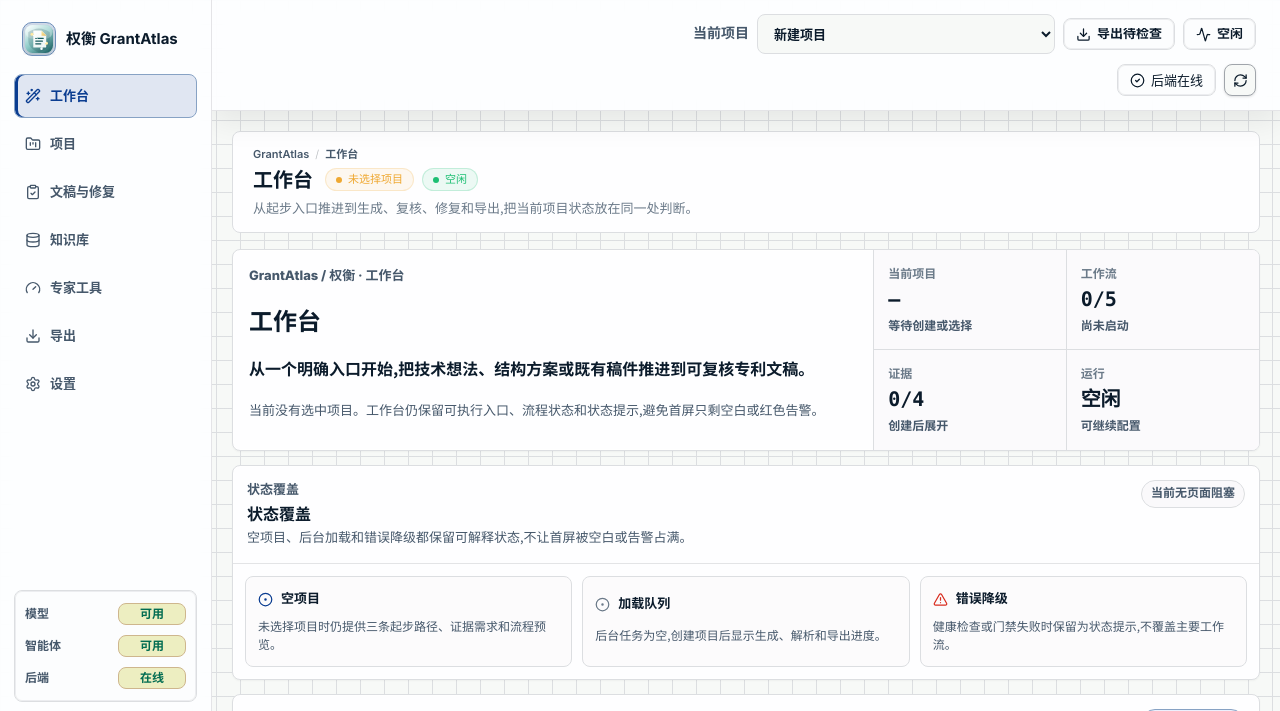
App existing project selection flow › binds the selected existing project from the project list to the workbench
Check: the heading "工作台" is shown, box [249,307,321,336]
Click the button "项目".
click(106, 144)  # box [14,122,197,166]
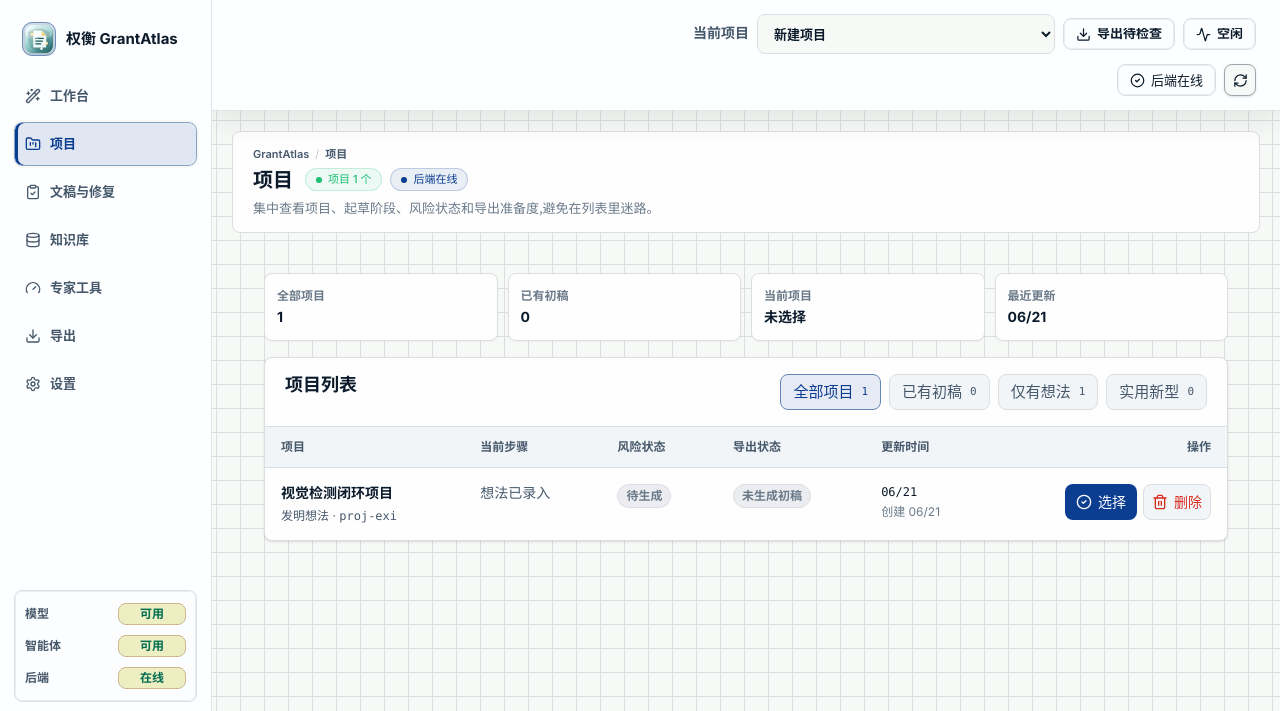
Check: the heading "项目列表" is shown, box [285,374,357,397]
Click the button "选择".
click(1101, 502)  # box [1065,484,1137,520]
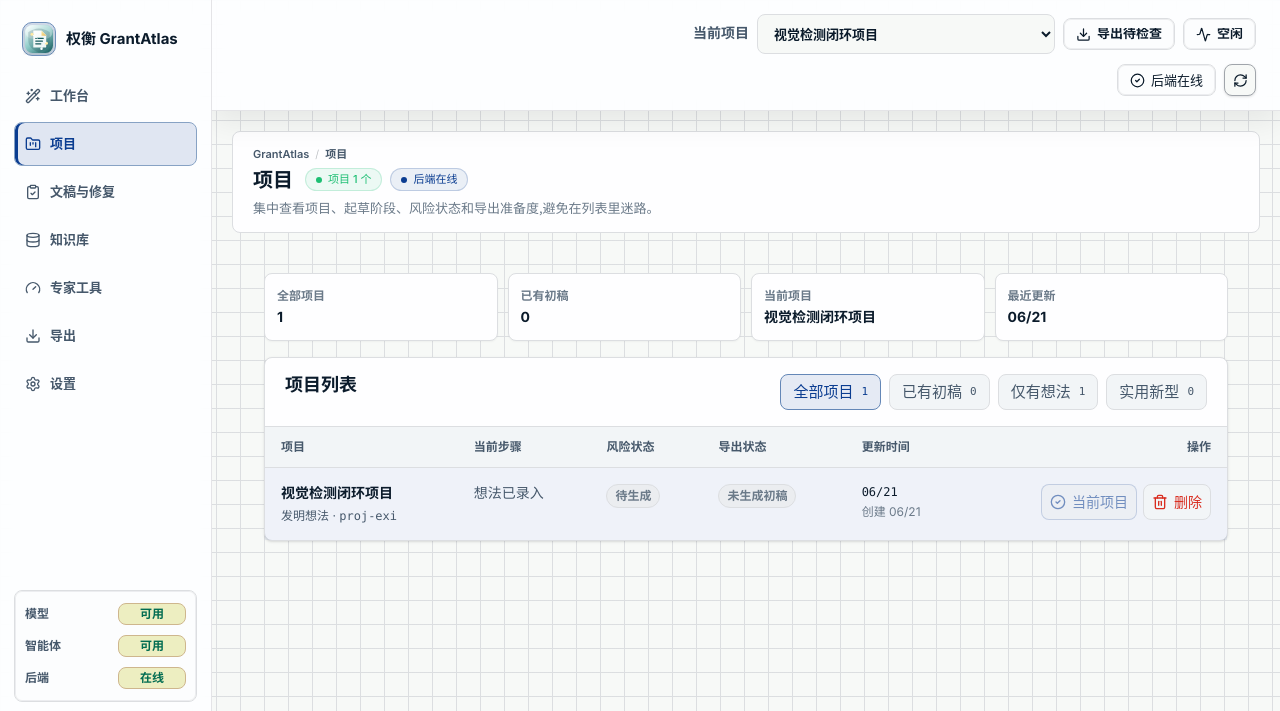
Click the button "工作台".
click(106, 96)  # box [14,74,197,118]
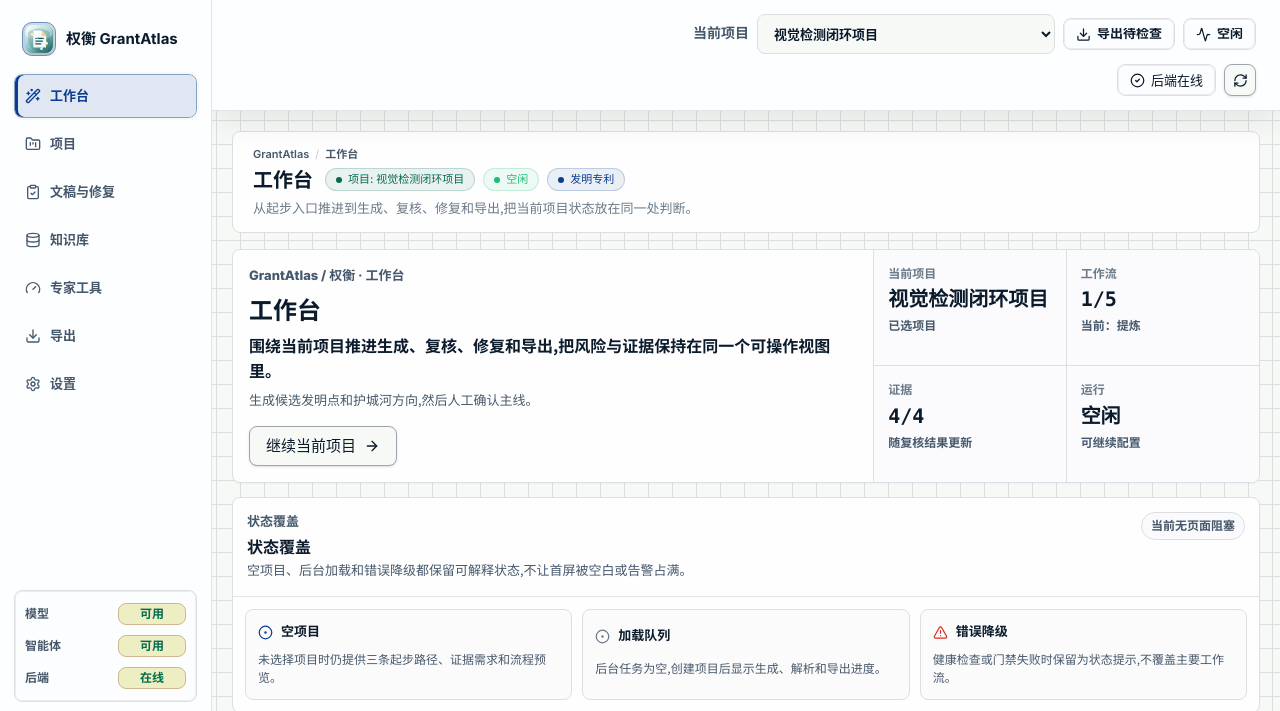
Check: the dropdown labelled "当前项目" shows "视觉检测闭环项目", box [757,14,1055,54]
Check: the heading "工作台" is shown, box [249,296,321,325]
